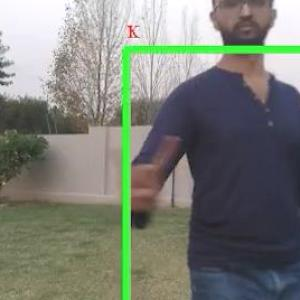takeoff-hand: (111, 128, 178, 225)
